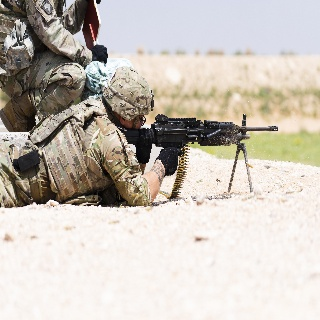rifle: (119, 112, 279, 194)
